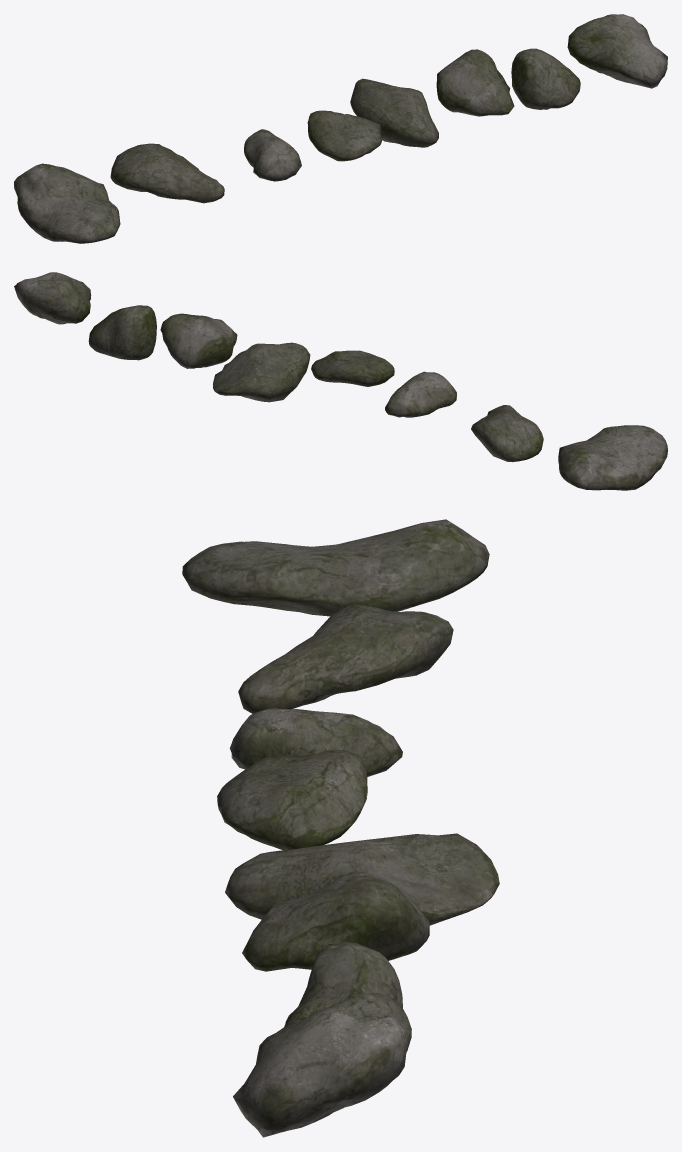
File: rocks_mod.glb
3 views of the same model, one above another, from view 1: azimuth 30°, elevation 25°; view 2: azimuth 150°, elevation 25°; view 3: azimuth 270°, elevation 25° (orthographic). The views are drawn at different scales.
Parts seen in each view (by area): view 1: rock1_low_rocks_texture_0, rock8_low_rocks_texture_0, rock2_low_rocks_texture_0, rock5_low_rocks_texture_0, rock6_low_rocks_texture_0, rock7_low_rocks_texture_0, rock4_low_rocks_texture_0, rock3_low_rocks_texture_0; view 2: rock1_low_rocks_texture_0, rock5_low_rocks_texture_0, rock6_low_rocks_texture_0, rock8_low_rocks_texture_0, rock7_low_rocks_texture_0, rock2_low_rocks_texture_0, rock4_low_rocks_texture_0, rock3_low_rocks_texture_0; view 3: rock1_low_rocks_texture_0, rock8_low_rocks_texture_0, rock5_low_rocks_texture_0, rock2_low_rocks_texture_0, rock6_low_rocks_texture_0, rock4_low_rocks_texture_0, rock3_low_rocks_texture_0, rock7_low_rocks_texture_0.
Boxes of the visible parts, x1,y1,x2,y2 form: rock1_low_rocks_texture_0: (14, 163, 120, 243); rock8_low_rocks_texture_0: (567, 14, 667, 88); rock2_low_rocks_texture_0: (110, 143, 224, 203); rock5_low_rocks_texture_0: (350, 78, 438, 147); rock6_low_rocks_texture_0: (436, 49, 514, 116); rock7_low_rocks_texture_0: (511, 48, 580, 109); rock4_low_rocks_texture_0: (307, 110, 381, 161); rock3_low_rocks_texture_0: (244, 129, 301, 181); rock1_low_rocks_texture_0: (558, 425, 667, 490); rock5_low_rocks_texture_0: (213, 342, 310, 402); rock6_low_rocks_texture_0: (160, 313, 237, 368); rock8_low_rocks_texture_0: (14, 272, 91, 324); rock7_low_rocks_texture_0: (88, 305, 156, 360); rock2_low_rocks_texture_0: (471, 405, 543, 462); rock4_low_rocks_texture_0: (311, 350, 394, 386); rock3_low_rocks_texture_0: (385, 371, 456, 417); rock1_low_rocks_texture_0: (182, 519, 489, 616); rock8_low_rocks_texture_0: (233, 992, 411, 1137); rock5_low_rocks_texture_0: (225, 833, 499, 925); rock2_low_rocks_texture_0: (238, 604, 453, 713); rock6_low_rocks_texture_0: (242, 871, 429, 971); rock4_low_rocks_texture_0: (217, 750, 367, 850); rock3_low_rocks_texture_0: (229, 708, 402, 777); rock7_low_rocks_texture_0: (284, 942, 402, 1027).
Size of the model in its own units: 8.83 by 0.9709 by 1.96.
Materials: 1 (1 with a texture image).
